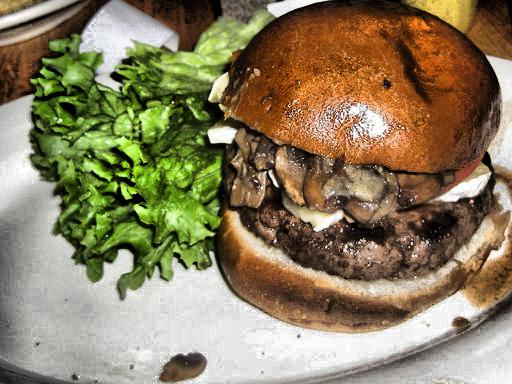burger: (193, 11, 499, 328)
